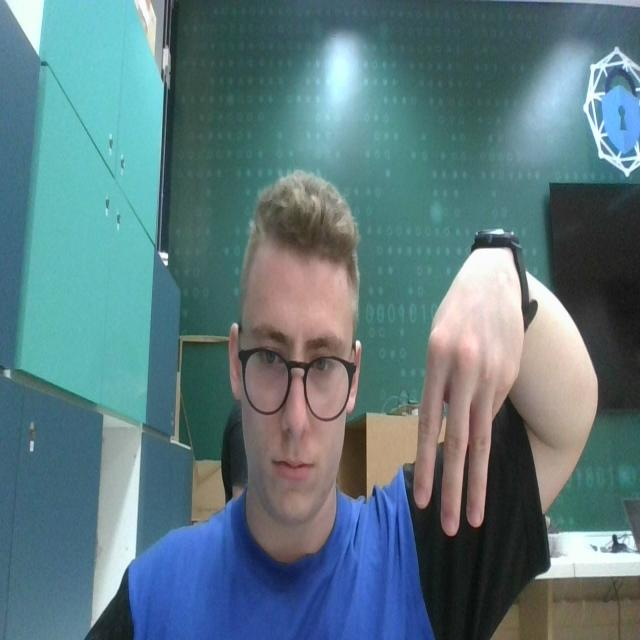M: (409, 245, 519, 542)
